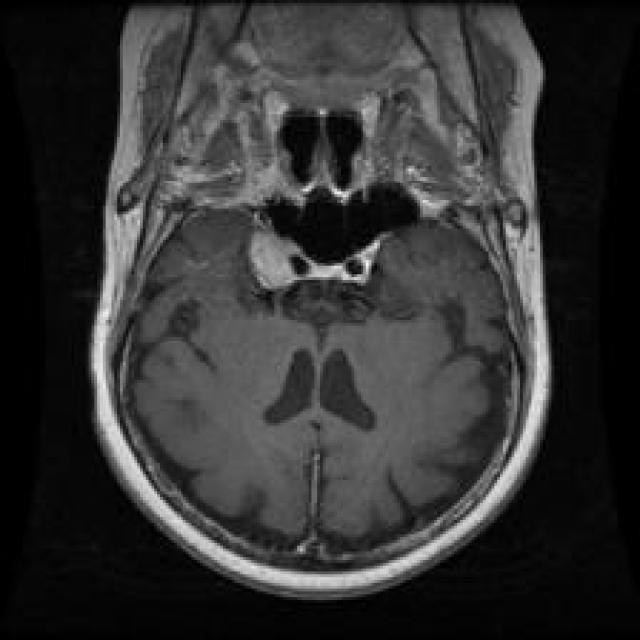meningioma_tumor: (242, 211, 329, 306)
